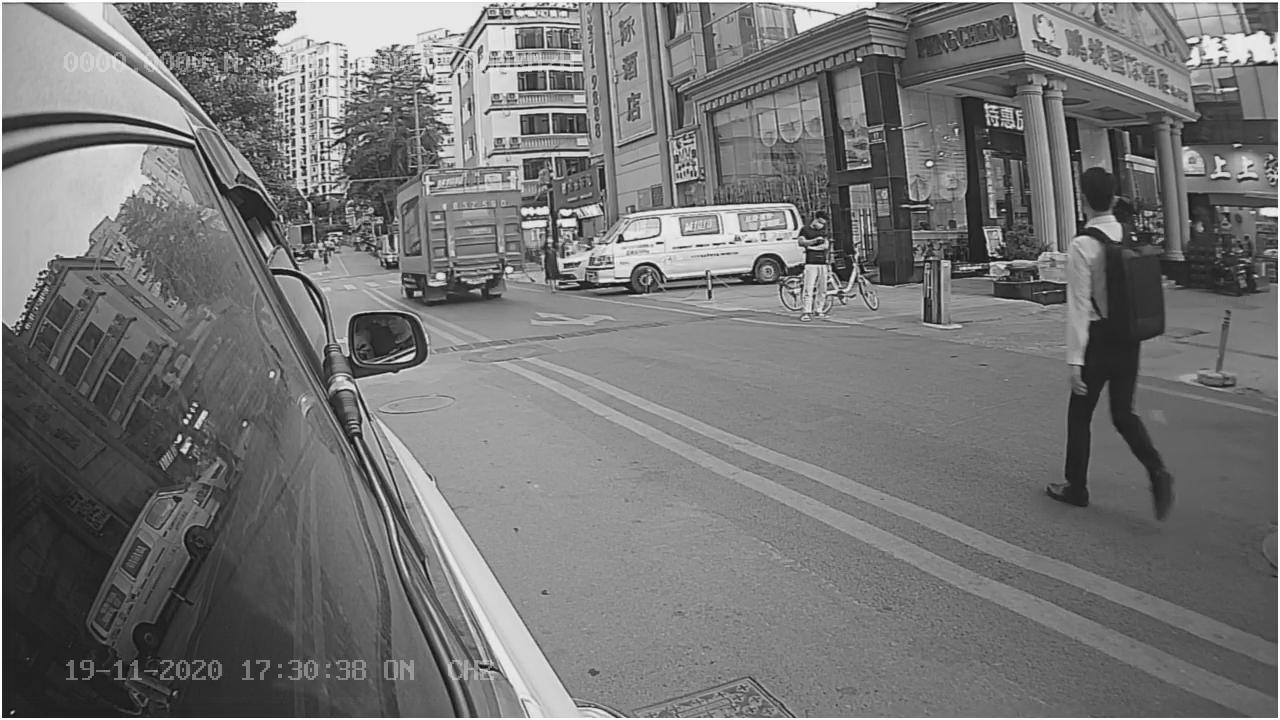person: (1050, 169, 1171, 512)
